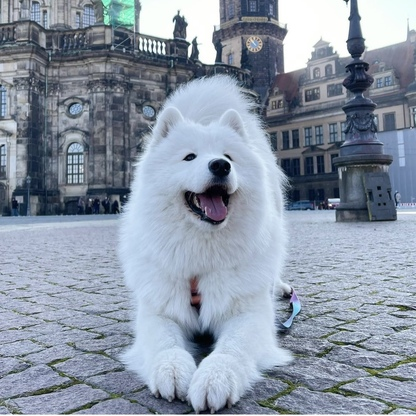samoyed: (112, 70, 294, 413)
